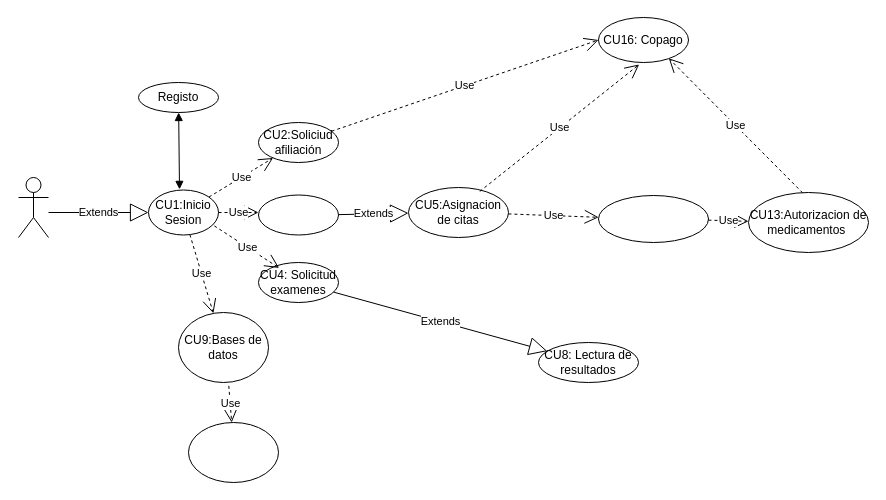
The diagram is 886 pixels wide and 500 high, and some of its shapes have lost their labels. The box of each missing label's shape, as (x1, y1, x2, y2) in pixels:
CU10: Historial medico paciente: (188, 422, 278, 482)
CU12:Receta de medicamentos: (598, 194, 708, 242)
CU3:Solicitud Citas: (258, 194, 338, 235)
USER: (18, 176, 48, 238)
